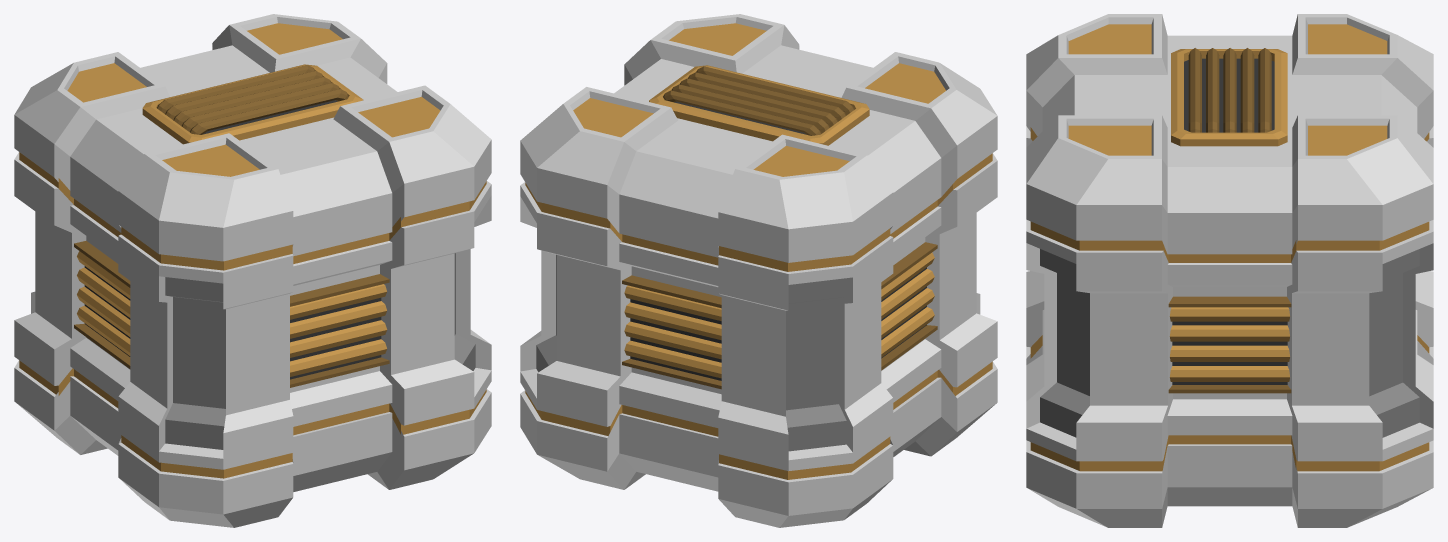
The model's file is crate.gltf.
The picture shows the model from 3 angles, left to right: view 1: azimuth 30°, elevation 25°; view 2: azimuth 150°, elevation 25°; view 3: azimuth 270°, elevation 25°; orthographic projection. The views are drawn at different scales.
Parts seen in each view (by area): view 1: Props_Crate; view 2: Props_Crate; view 3: Props_Crate.
Part boxes in pixels (bbox=[...]): Props_Crate: bbox=[14, 14, 491, 527]; Props_Crate: bbox=[520, 14, 997, 527]; Props_Crate: bbox=[1026, 14, 1433, 527].
Bounding box in the file's own units: 0.7971 × 0.8055 × 0.7971.
